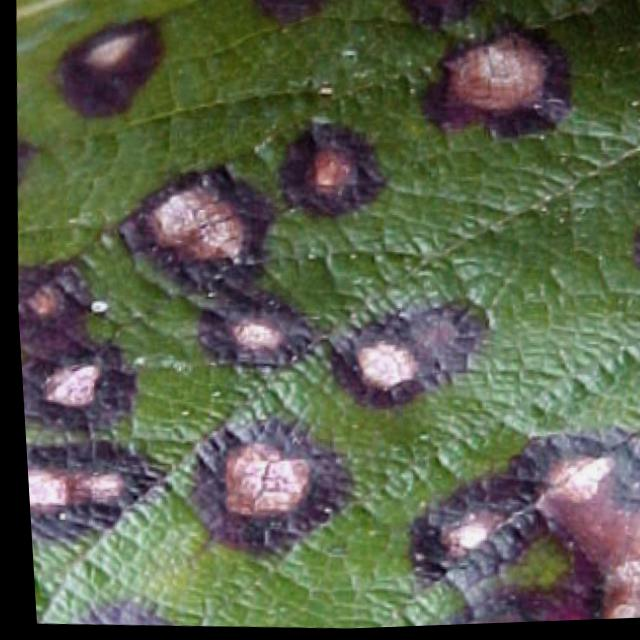Leaf Spot: (15, 0, 640, 631)
